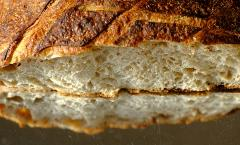organic: (54, 48, 216, 94)
